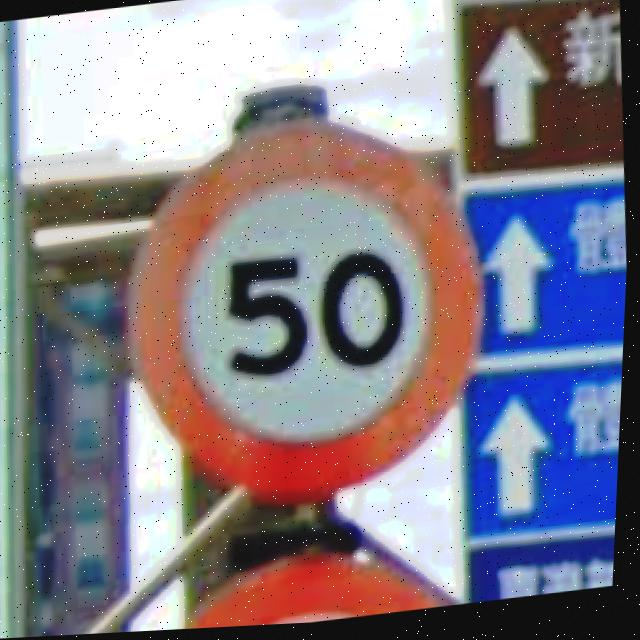max50: (105, 96, 508, 526)
